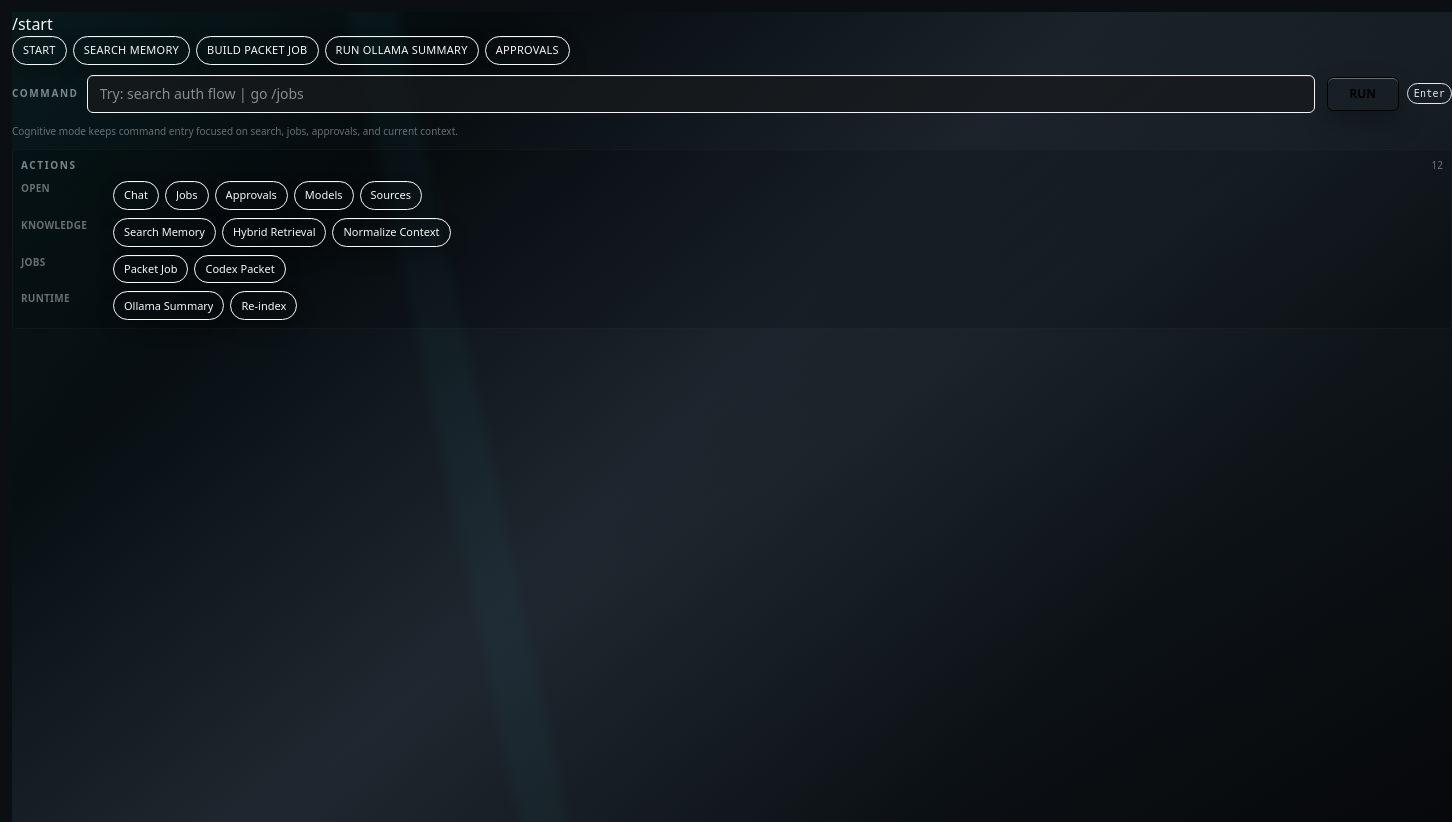
Test: CommandBar › runs staged navigation commands through the command parser
The image size is (1452, 822).
Click the button with aria-label "Use command Jobs" at [187, 195], box [165, 181, 209, 210]
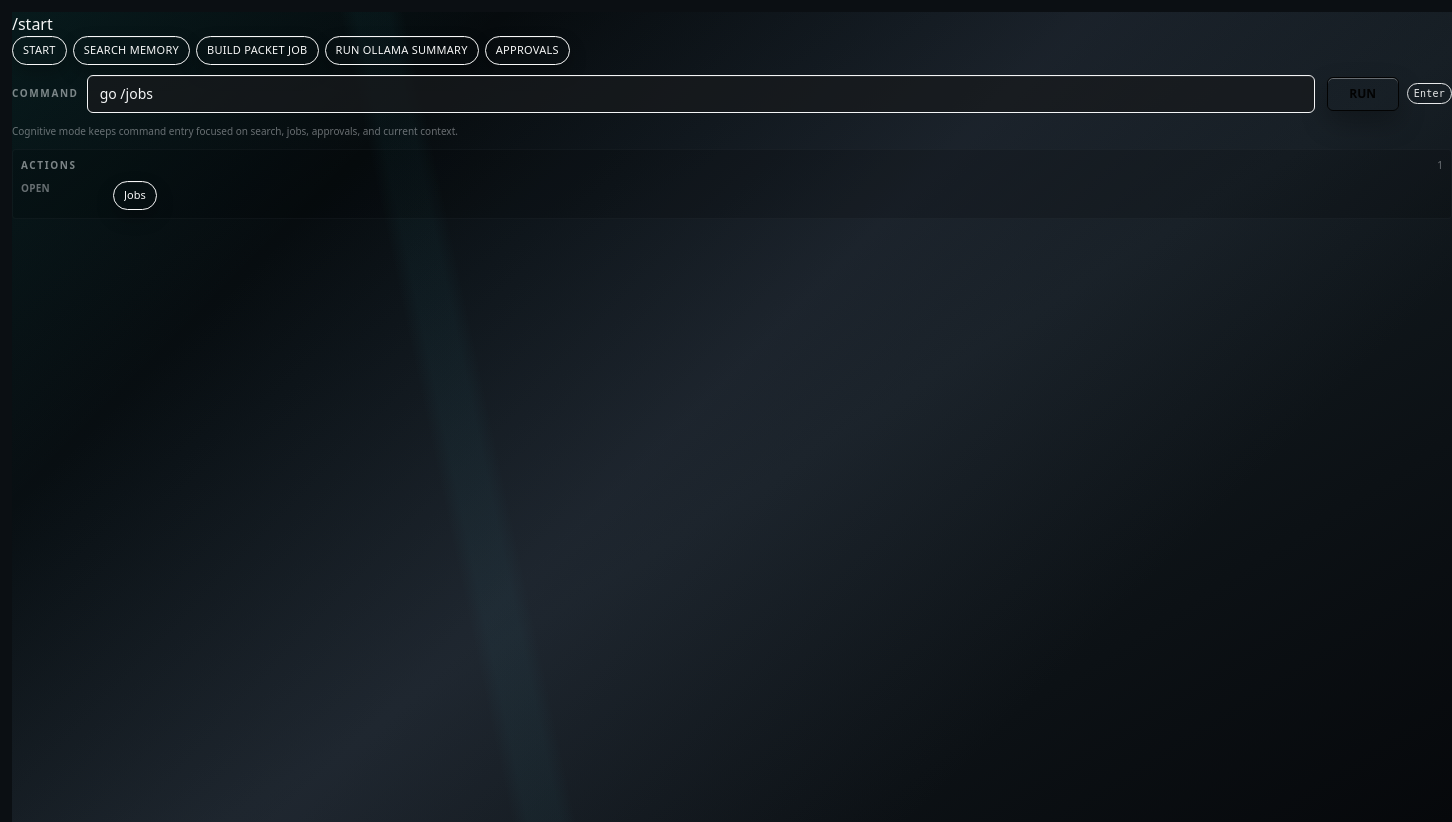
Click the button "Run" at [1363, 94], box [1327, 77, 1399, 111]
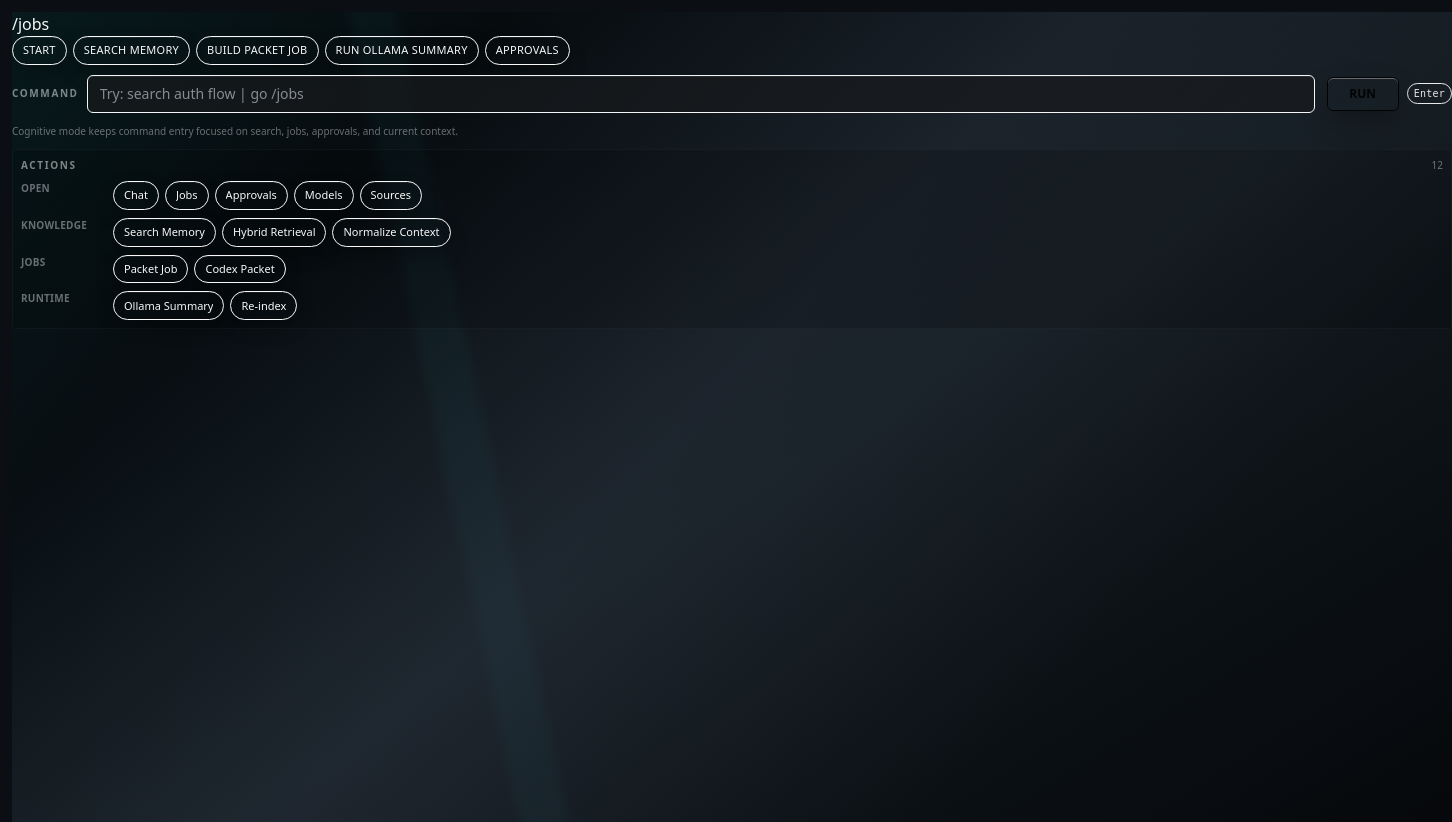
Now the text with test id "location" reads "/jobs", box [12, 13, 49, 35]
Now the field named "Command input" is empty, box [87, 75, 1315, 113]
